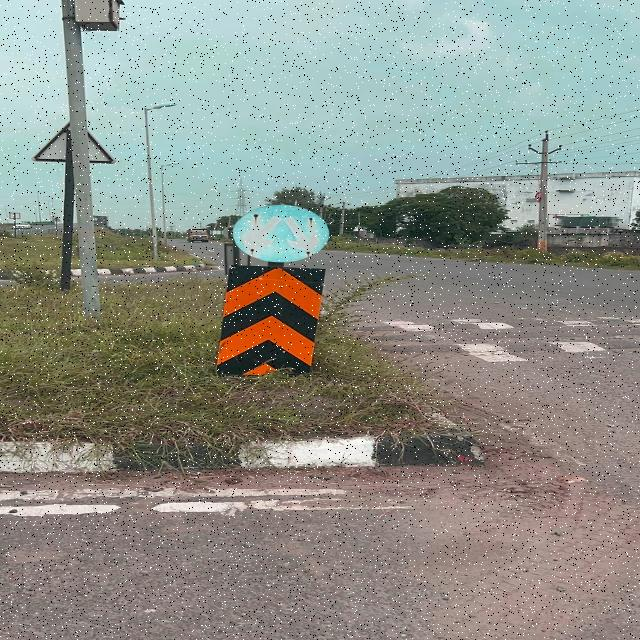Twoway_hazardmarker: (226, 266, 321, 386)
vehicles_may_pass_either: (214, 200, 330, 262)
